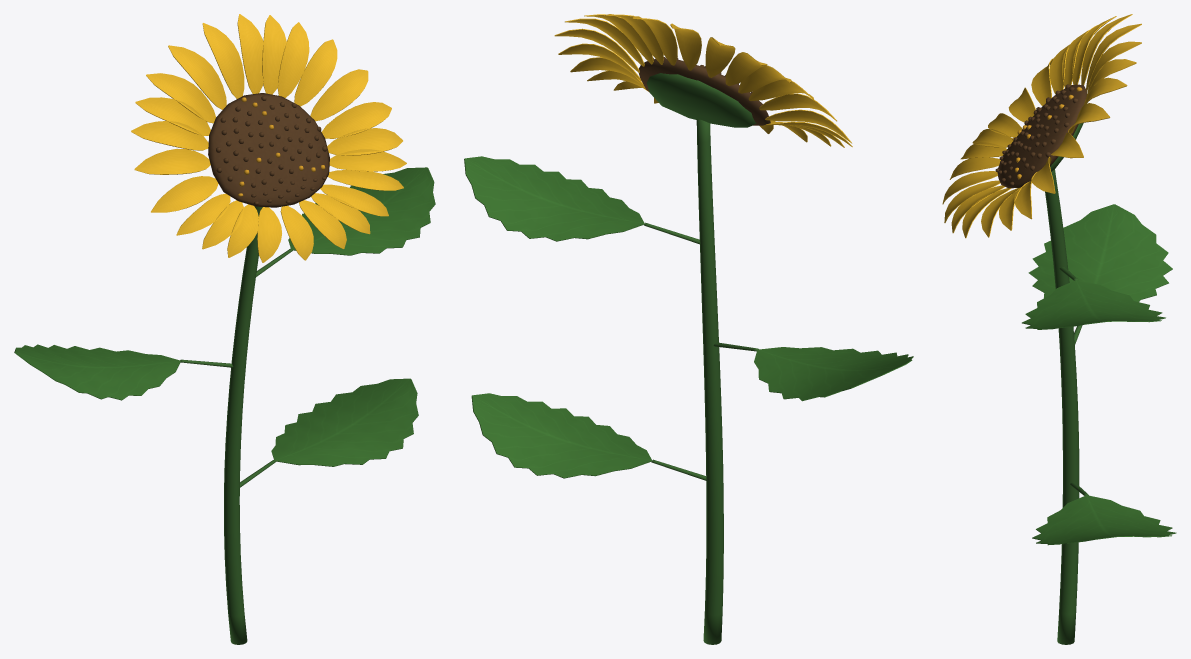
File: girasole.glb
The picture shows the model from 3 angles, left to right: view 1: azimuth 30°, elevation 25°; view 2: azimuth 150°, elevation 25°; view 3: azimuth 270°, elevation 25°; orthographic projection. The views are drawn at different scales.
Parts seen in each view (by area): view 1: Sunflower Composite convex disc receptacle, Sunflower broad leaf 1, Cut stem, Sunflower broad leaf 2, Sunflower broad leaf 3, Sunflower Sunflower finite ray floret 6, Sunflower Sunflower finite ray floret 7, Sunflower Sunflower finite ray floret 11, Sunflower Sunflower finite ray floret 5, Sunflower Sunflower finite ray floret 12, Sunflower Sunflower finite ray floret 10, Sunflower Sunflower finite ray floret 8 (+17 smaller); view 2: Sunflower broad leaf 3, Sunflower broad leaf 1, Cut stem, Sunflower broad leaf 2, Sunflower Fleshy attached receptacle, Sunflower Composite convex disc receptacle, Sunflower Sunflower finite ray floret 11, Sunflower Sunflower finite ray floret 10, Sunflower Sunflower finite ray floret 12, Sunflower Sunflower finite ray floret 16, Sunflower Sunflower finite ray floret 17, Sunflower Sunflower finite ray floret 7 (+8 smaller); view 3: Sunflower broad leaf 2, Cut stem, Sunflower broad leaf 1, Sunflower broad leaf 3, Sunflower Composite convex disc receptacle, Sunflower Sunflower finite ray floret 12, Sunflower Sunflower finite ray floret 13, Sunflower Sunflower finite ray floret 11, Sunflower Sunflower finite ray floret 16, Sunflower Sunflower finite ray floret 22, Sunflower Sunflower finite ray floret 23, Sunflower Sunflower finite ray floret 21 (+17 smaller).
Boxes of the visible parts, box(x1,y1,x2,y2) form: Sunflower Composite convex disc receptacle: box(208, 93, 329, 207); Sunflower broad leaf 1: box(271, 378, 418, 466); Cut stem: box(224, 206, 262, 644); Sunflower broad leaf 2: box(14, 344, 180, 400); Sunflower broad leaf 3: box(288, 167, 435, 255); Sunflower Sunflower finite ray floret 6: box(310, 69, 368, 121); Sunflower Sunflower finite ray floret 7: box(294, 39, 337, 106); Sunflower Sunflower finite ray floret 11: box(202, 23, 244, 98); Sunflower Sunflower finite ray floret 5: box(321, 102, 391, 138); Sunflower Sunflower finite ray floret 12: box(168, 45, 226, 109); Sunflower Sunflower finite ray floret 10: box(237, 14, 266, 93); Sunflower Sunflower finite ray floret 8: box(277, 22, 309, 97); Sunflower broad leaf 3: box(464, 156, 644, 241); Sunflower broad leaf 1: box(471, 393, 652, 478); Cut stem: box(696, 119, 723, 644); Sunflower broad leaf 2: box(754, 347, 913, 401); Sunflower Fleshy attached receptacle: box(646, 73, 756, 127); Sunflower Composite convex disc receptacle: box(639, 58, 770, 125); Sunflower Sunflower finite ray floret 11: box(670, 23, 701, 70); Sunflower Sunflower finite ray floret 10: box(632, 16, 677, 65); Sunflower Sunflower finite ray floret 12: box(705, 37, 735, 77); Sunflower Sunflower finite ray floret 16: box(759, 93, 836, 121); Sunflower Sunflower finite ray floret 17: box(765, 109, 851, 143); Sunflower Sunflower finite ray floret 7: box(565, 18, 644, 66); Sunflower broad leaf 2: box(1028, 204, 1172, 301); Cut stem: box(1045, 169, 1079, 644); Sunflower broad leaf 1: box(1032, 495, 1176, 545); Sunflower broad leaf 3: box(1022, 280, 1165, 329); Sunflower Composite convex disc receptacle: box(997, 84, 1086, 188); Sunflower Sunflower finite ray floret 12: box(1081, 14, 1132, 84); Sunflower Sunflower finite ray floret 13: box(1072, 16, 1116, 84); Sunflower Sunflower finite ray floret 11: box(1086, 23, 1141, 91); Sunflower Sunflower finite ray floret 16: box(1031, 58, 1052, 105); Sunflower Sunflower finite ray floret 22: box(942, 171, 997, 204); Sunflower Sunflower finite ray floret 23: box(944, 180, 1000, 222); Sunflower Sunflower finite ray floret 21: box(949, 157, 1000, 179).
Size of the model in its own units: 0.2853 by 0.3935 by 0.1351.
Materials: 5 (5 with a texture image).
